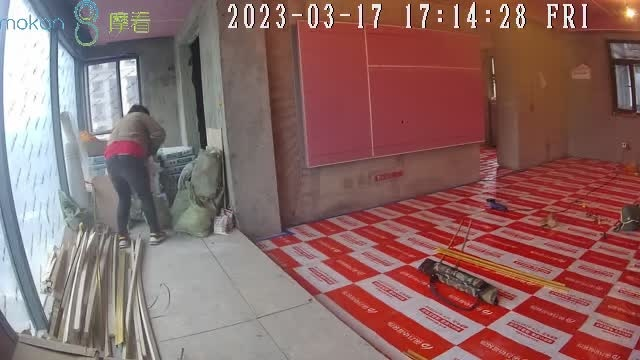people: (102, 103, 168, 243)
window: (2, 3, 142, 338)
